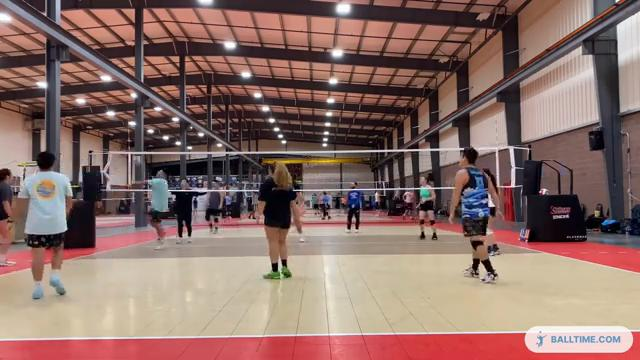alzata: (130, 168, 169, 249)
